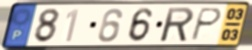1: (65, 8, 81, 43)
6: (127, 6, 156, 43), (97, 7, 124, 43)
8: (33, 8, 62, 44)
P: (188, 7, 224, 43)
R: (159, 6, 196, 44)
